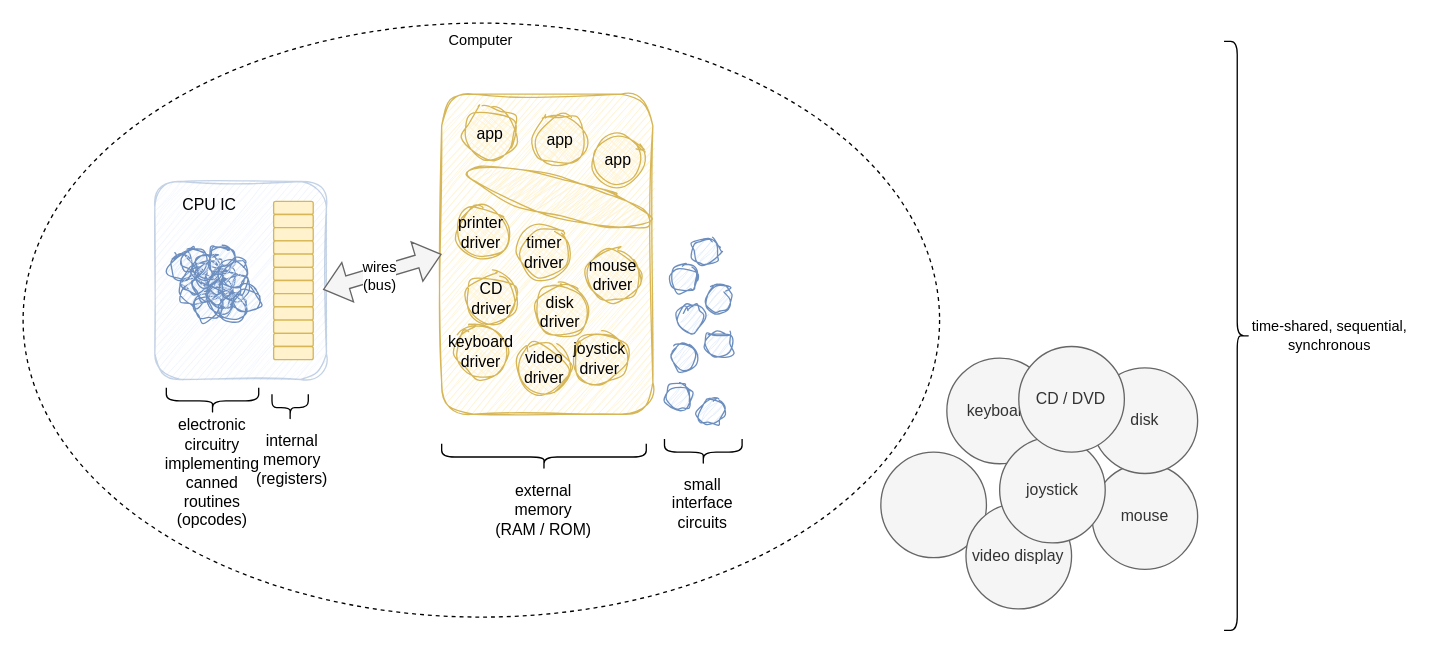
Some shapes in this 1432 by 653 pixel diagram are drawn without their labels. The shapes that lost their labels are listed below. From the top down, each one's centre as x and y in pixels, then its label:
At point 557,196: "common routines (operating system)".
At point 933,504: "printer".
